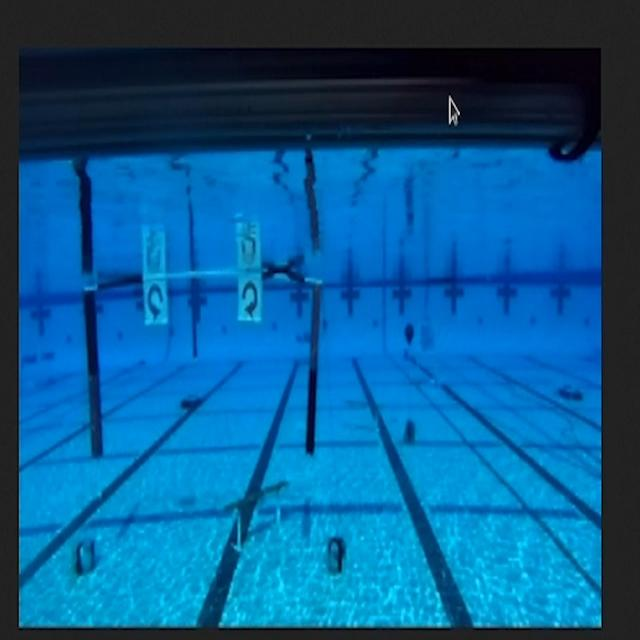Gate: (80, 267, 326, 468)
